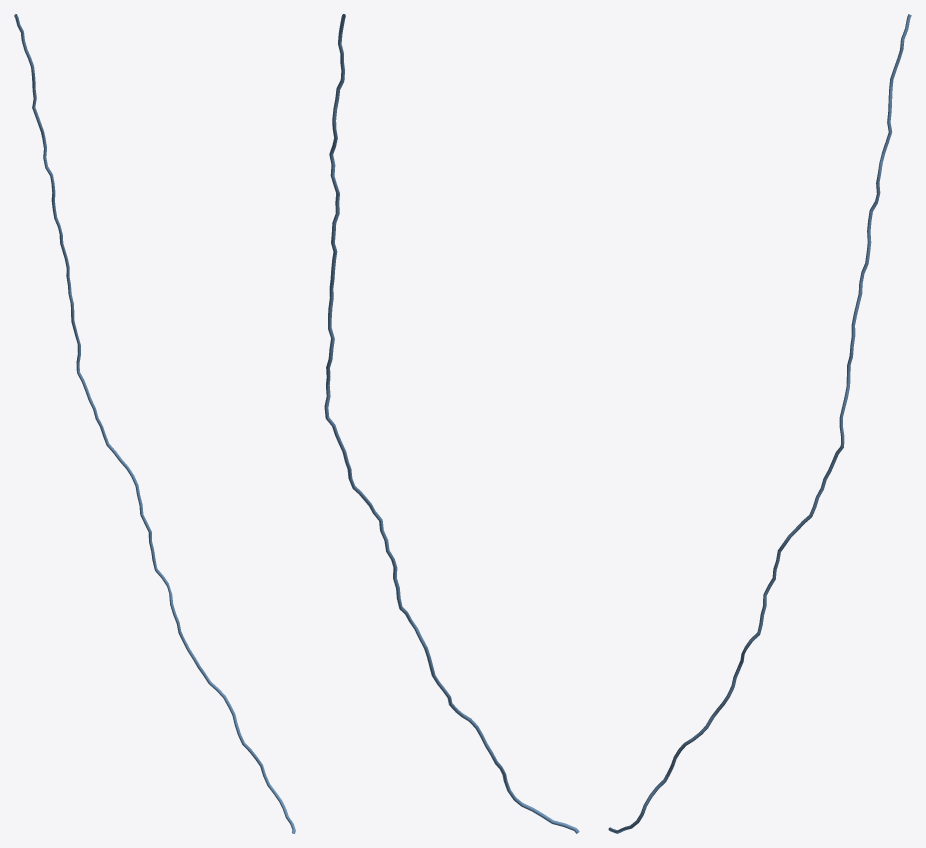
The model's file is sweep321.fbx.
The picture shows the model from 3 angles, left to right: view 1: azimuth 90°, elevation 25°; view 2: azimuth 150°, elevation 25°; view 3: azimuth 270°, elevation 25°; orthographic projection. The views are drawn at different scales.
Parts seen in each view (by area): view 1: sweep321; view 2: sweep321; view 3: sweep321.
Boxes of the visible parts, x1,y1,x2,y2 form: sweep321: [14, 14, 295, 833]; sweep321: [324, 14, 579, 833]; sweep321: [608, 14, 911, 833].
Bounding box in the file's own units: 0.7503 × 5.14 × 1.66.
